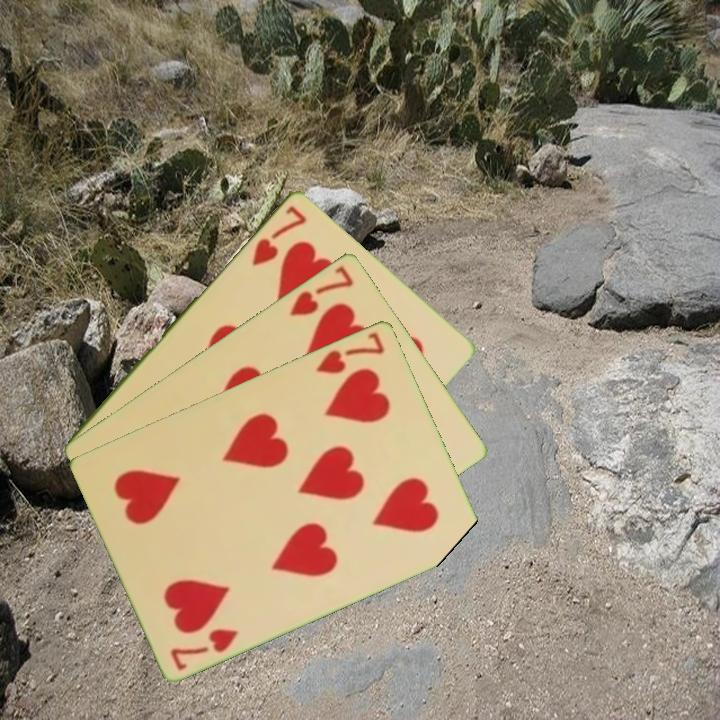7h: (248, 201, 310, 268), (286, 261, 357, 319), (166, 624, 241, 673), (312, 328, 388, 376)
